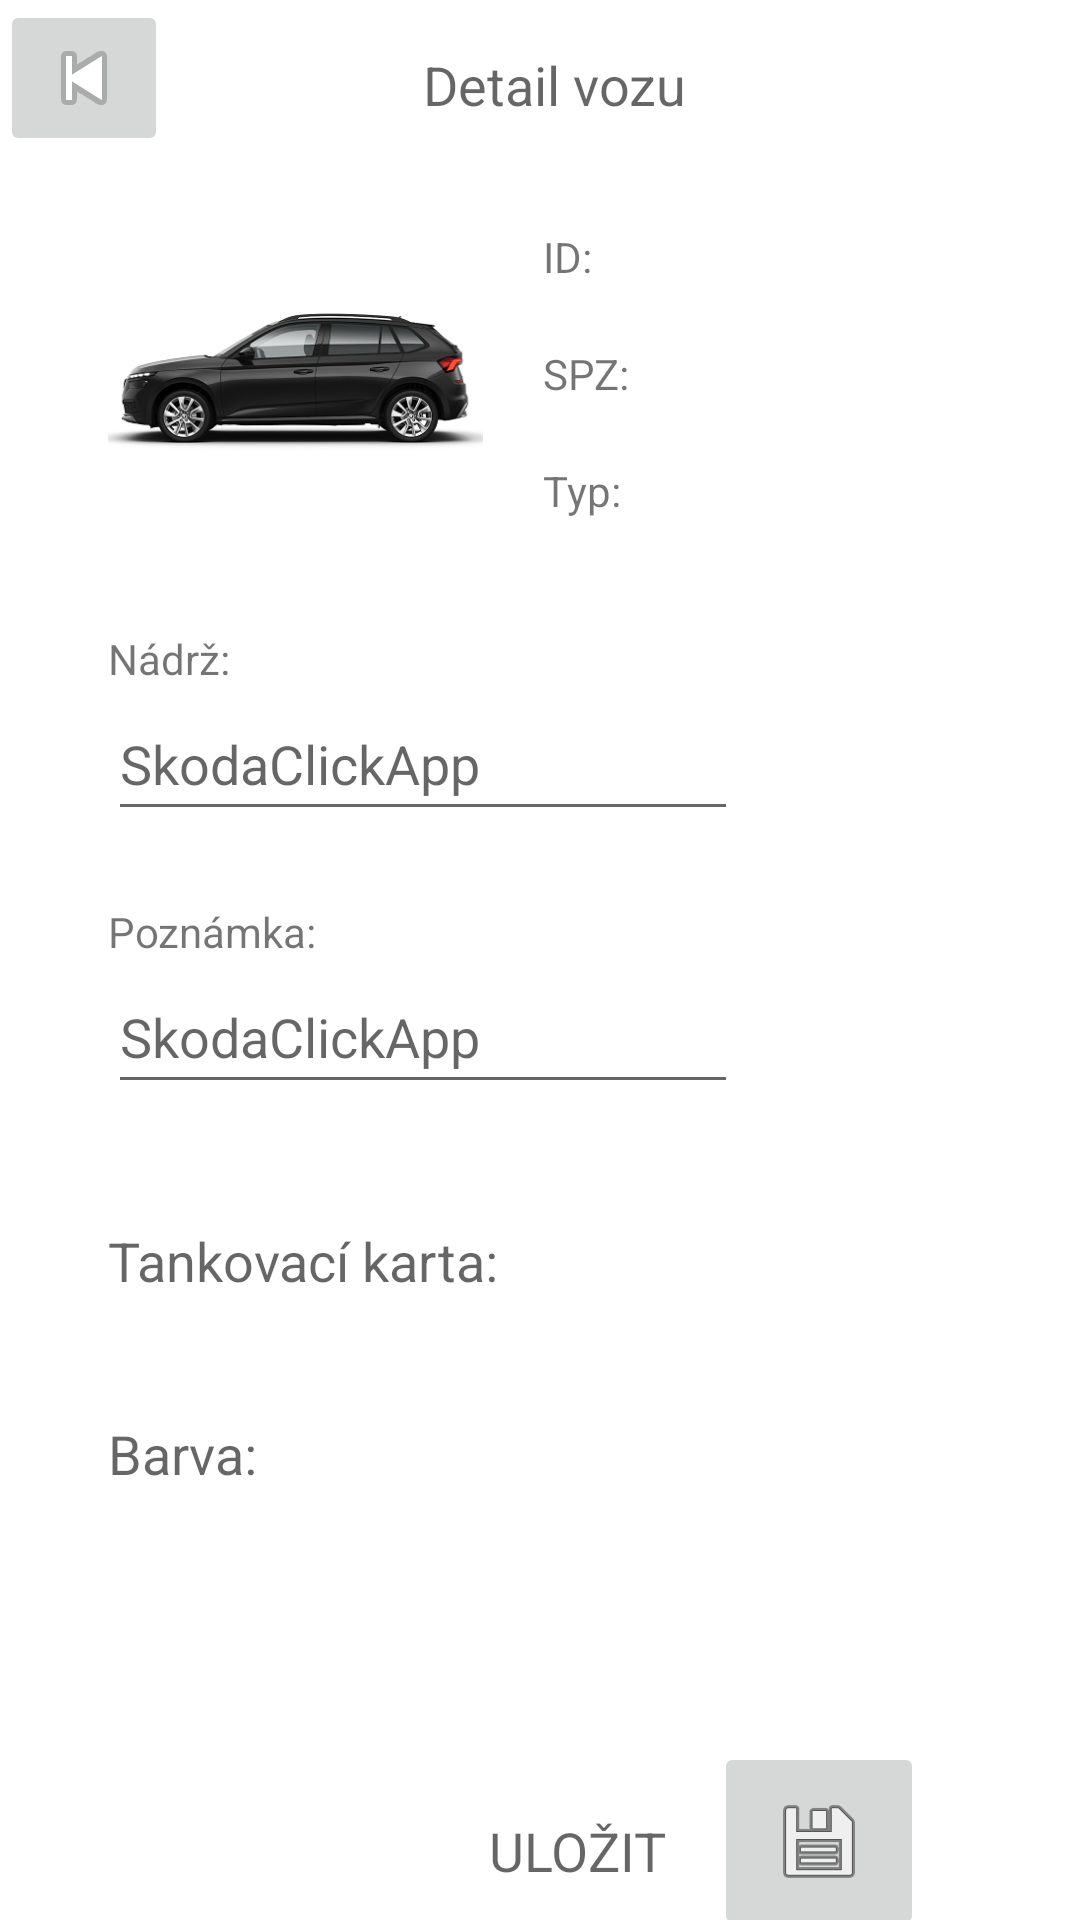

Where icons sit on this 1080 x 1920 app screen, as (x1, y1, x2, y2):
previous: (12, 18, 156, 138)
